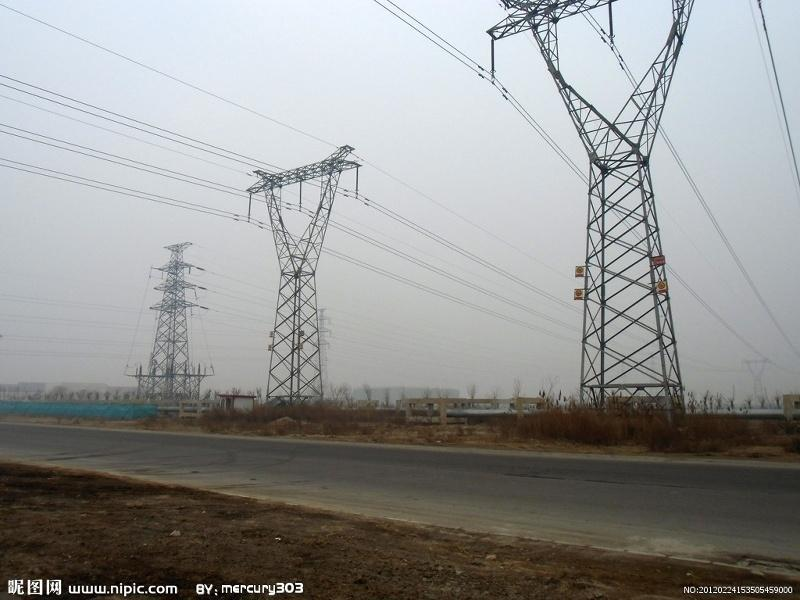power_tower: (478, 4, 726, 423), (245, 140, 366, 412), (131, 228, 210, 408), (310, 301, 336, 397), (734, 353, 776, 398)
